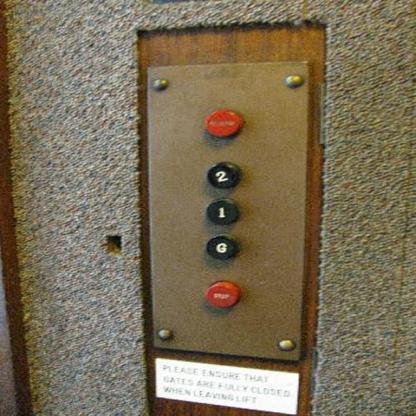1: (202, 196, 242, 226)
2: (204, 159, 244, 190)
G: (203, 232, 240, 261)
blur: (202, 106, 245, 140), (202, 278, 243, 310)
